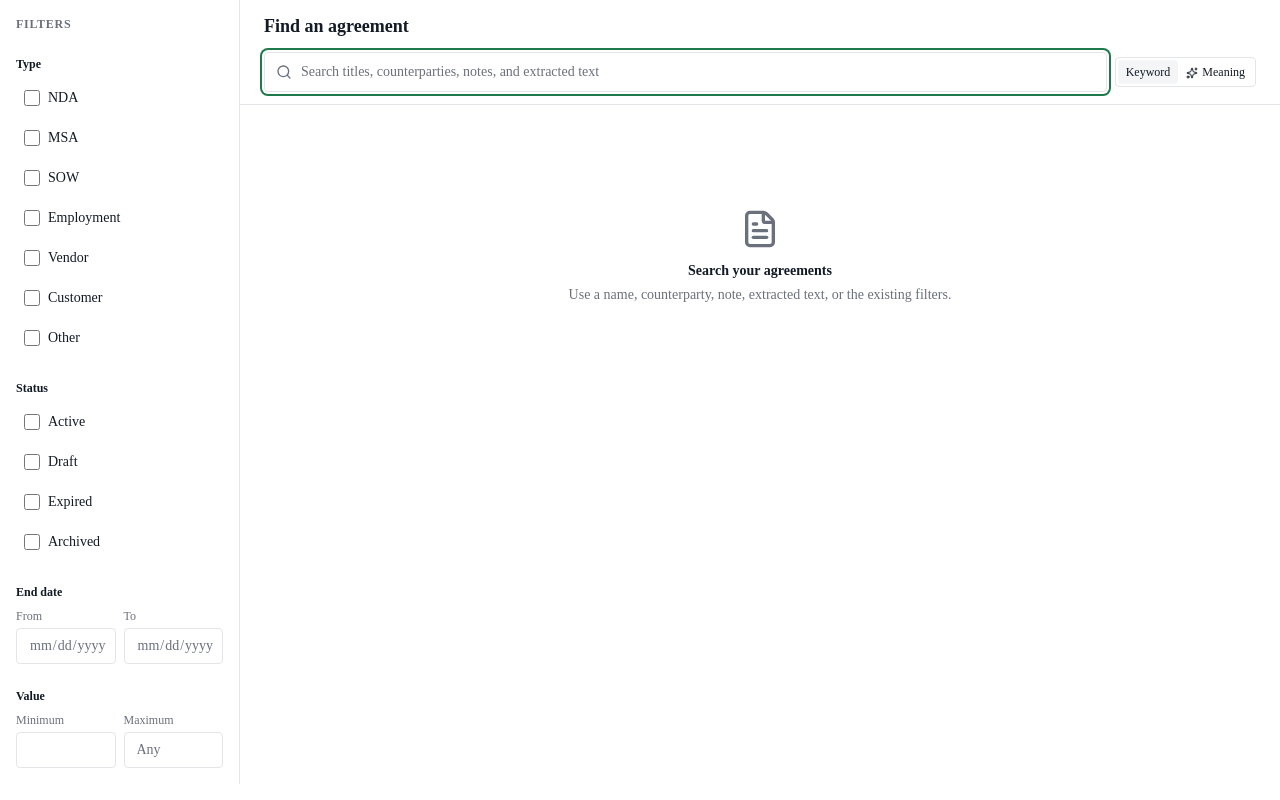
Test: SearchPage › announces keyword fallback in en without hiding results
The width and height of the screenshot is (1280, 800).
Click the radio button labelled "Meaning".
click(1216, 72)  # box 1178,60 -> 1253,84
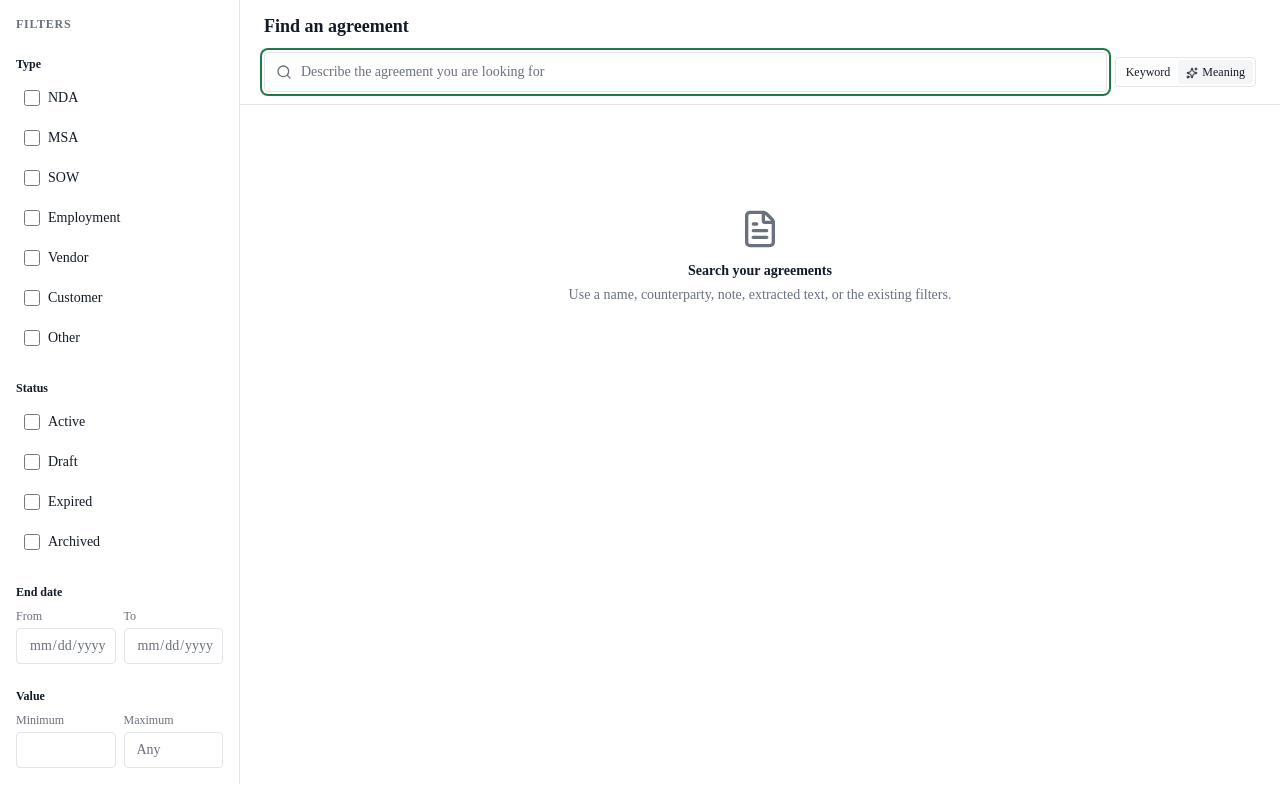
Type "Northwind" into the search field named "Search agreements".
click(685, 72); type("Northwind")  # box 264,52 -> 1107,92
Wait 300 ms
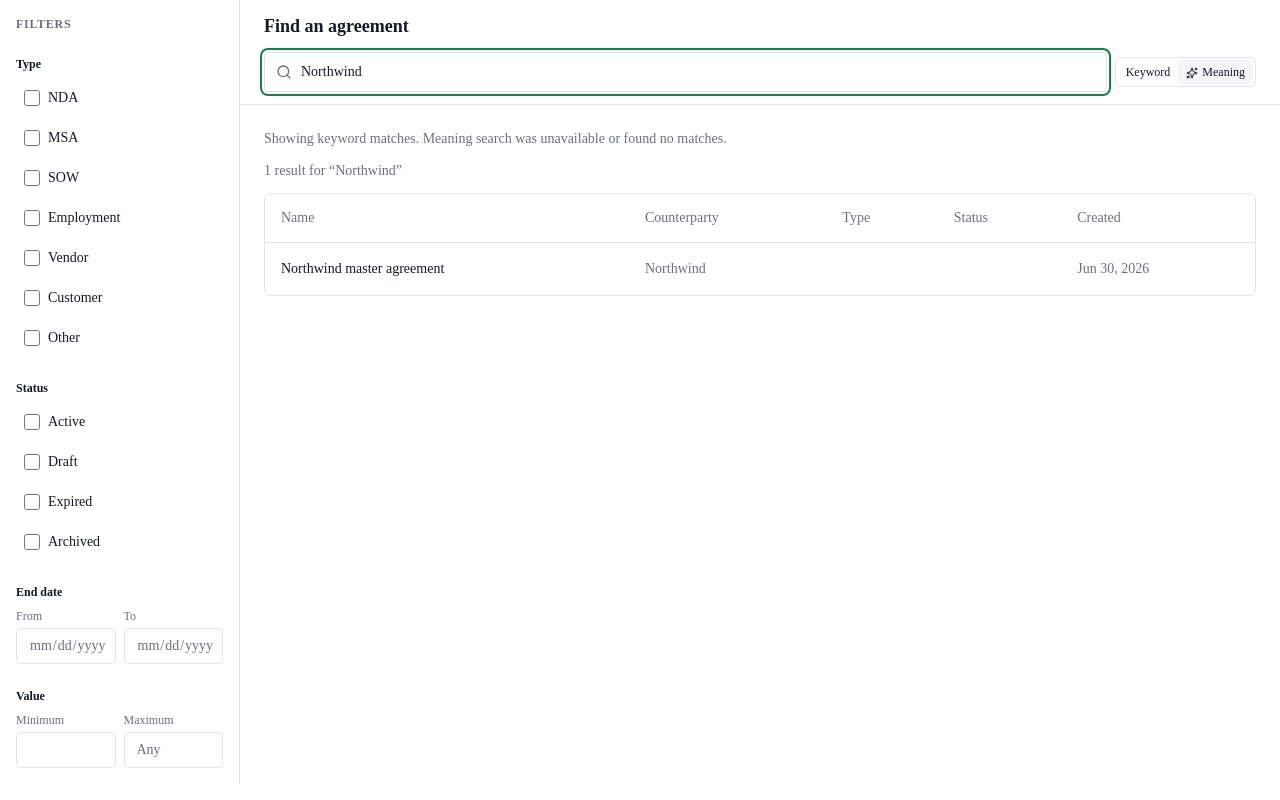
Expected: the message reads "Showing keyword matches. Meaning search was unavailable or found no matches.", 264,131 -> 727,146
Expected: the link with aria-label "Open Northwind master agreement" is shown, 281,260 -> 444,276
